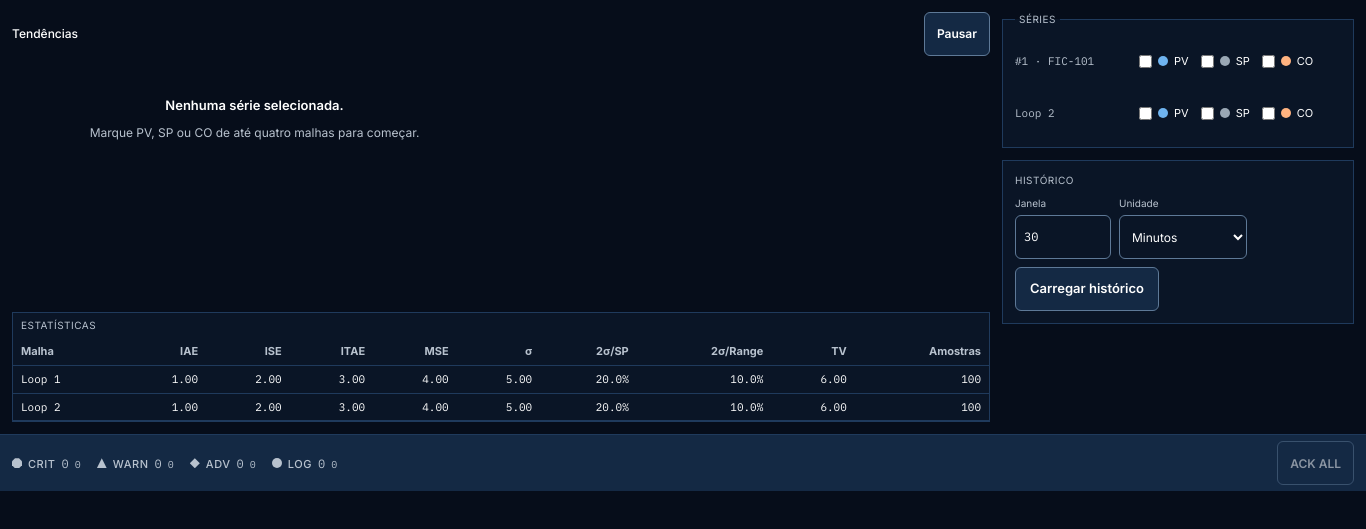
it: MultiTrendPage — loop titles (§9.3) › titles the chart cell header and its aria-label the same way once occupied
The width and height of the screenshot is (1366, 529).
Click the checkbox named "Loop 1 · PV" at (1146, 61), box [1139,54,1152,68]
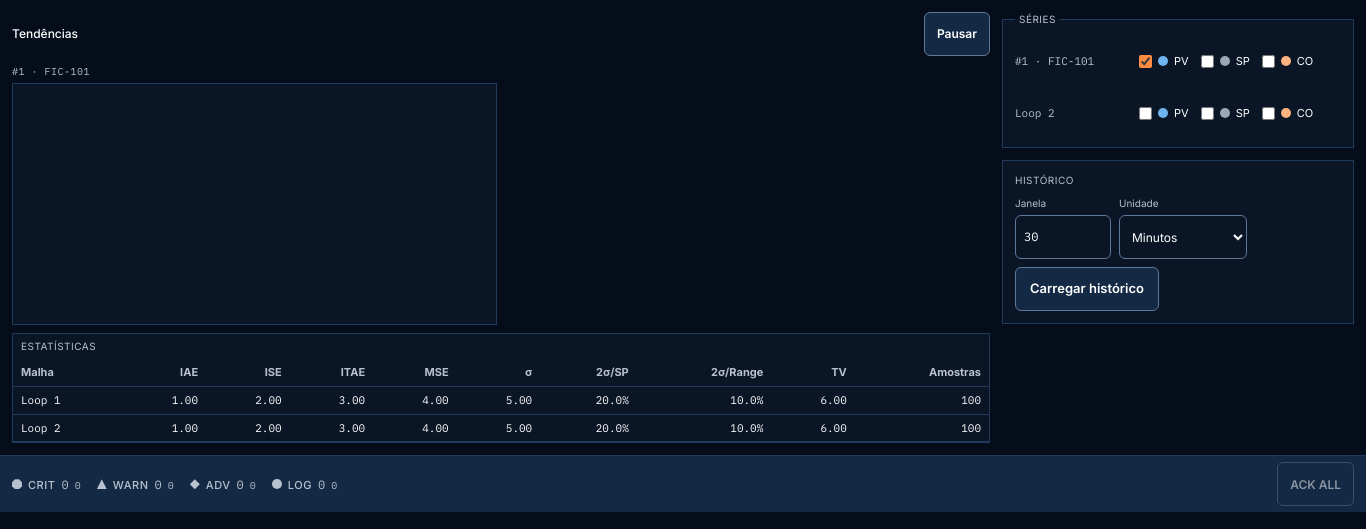
Click the checkbox named "Loop 2 · PV" at (1146, 113), box [1139,106,1152,120]
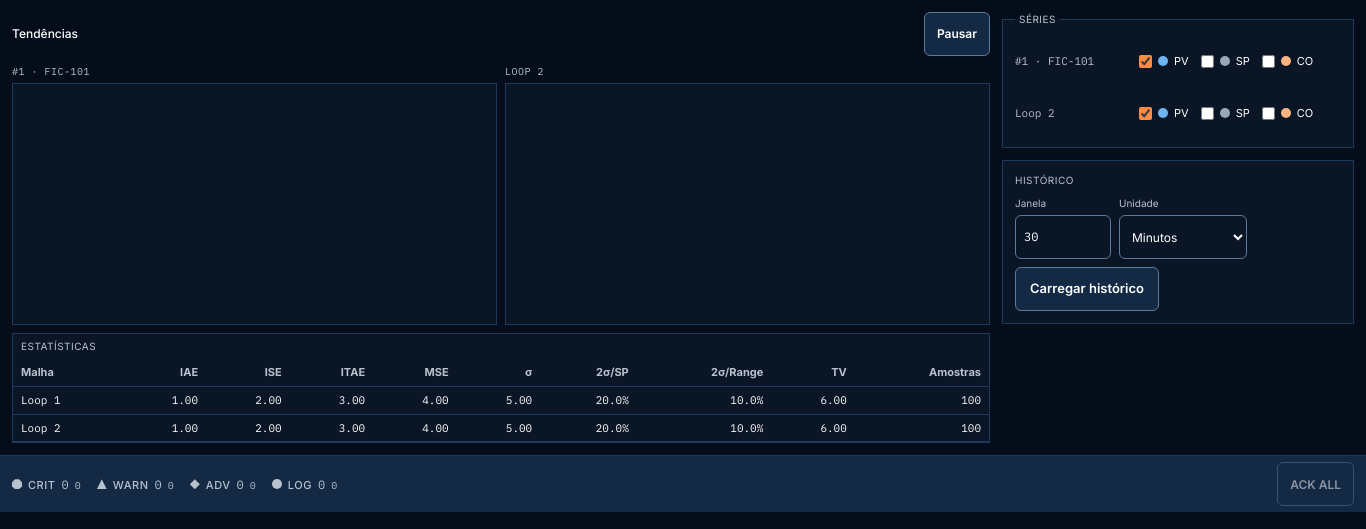
Check: the heading "#1 · FIC-101" is shown, box [12,65,90,78]
Check: the element named "Tendência #1 · FIC-101" is shown, box [12,83,497,325]
Check: the heading "Loop 2" is shown, box [505,65,544,78]
